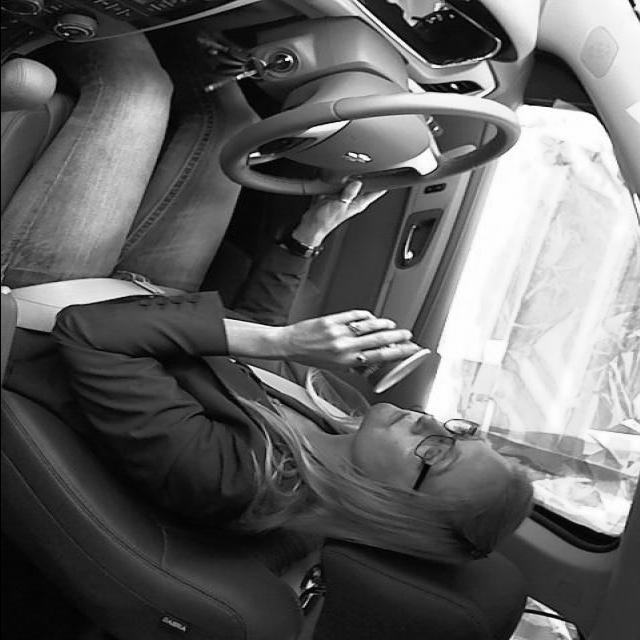drinking: (332, 310, 432, 394)
